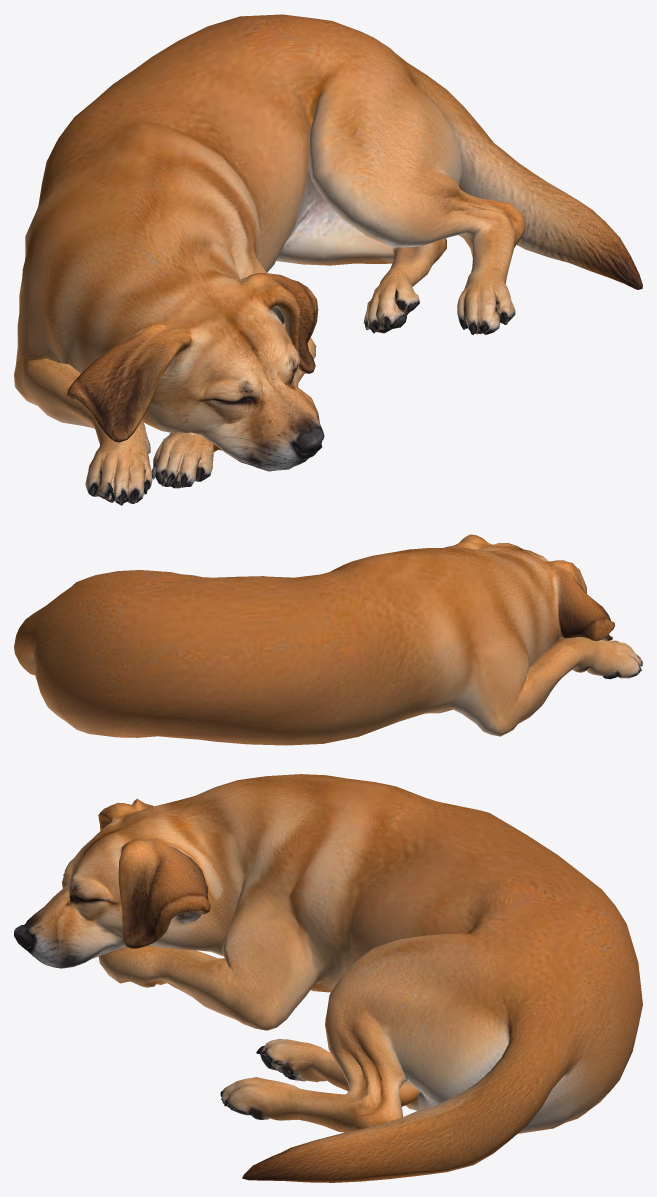
The model's file is dog.glb.
3 views of the same model, one above another, from view 1: azimuth 30°, elevation 25°; view 2: azimuth 150°, elevation 25°; view 3: azimuth 270°, elevation 25° (orthographic). The views are drawn at different scales.
Visible parts, largest first — view 1: dog_body; view 2: dog_body; view 3: dog_body.
Part boxes in pixels (x1=…): dog_body: x1=14, y1=14, x2=642, y2=505; dog_body: x1=14, y1=534, x2=642, y2=745; dog_body: x1=14, y1=774, x2=642, y2=1182.
Size of the model in its own units: 0.857 by 0.2755 by 0.7745.
1 material, 1 textured.
